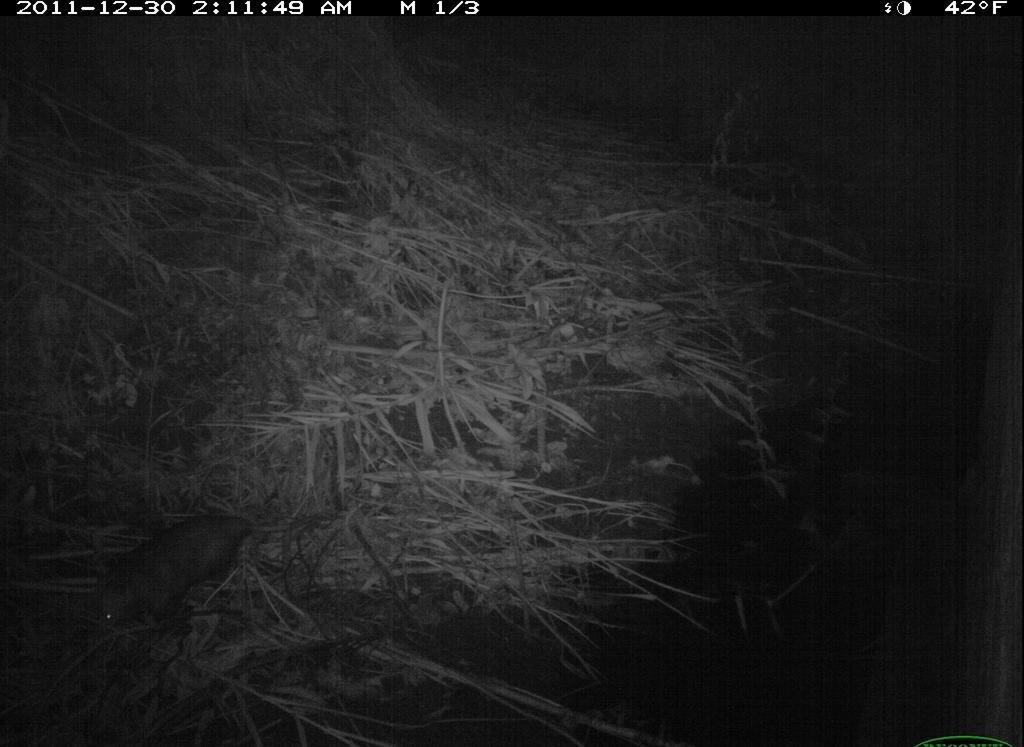opossum: (86, 505, 268, 647)
